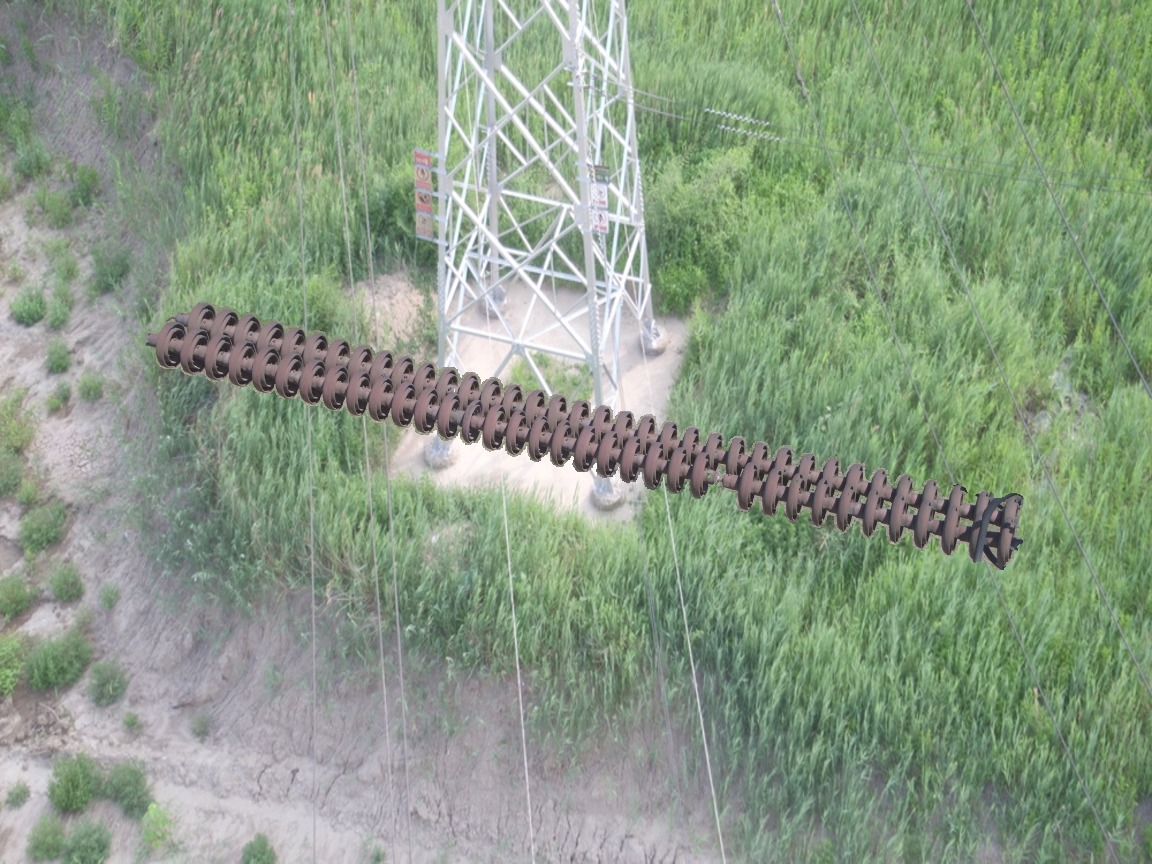defect: (681, 449, 759, 512)
